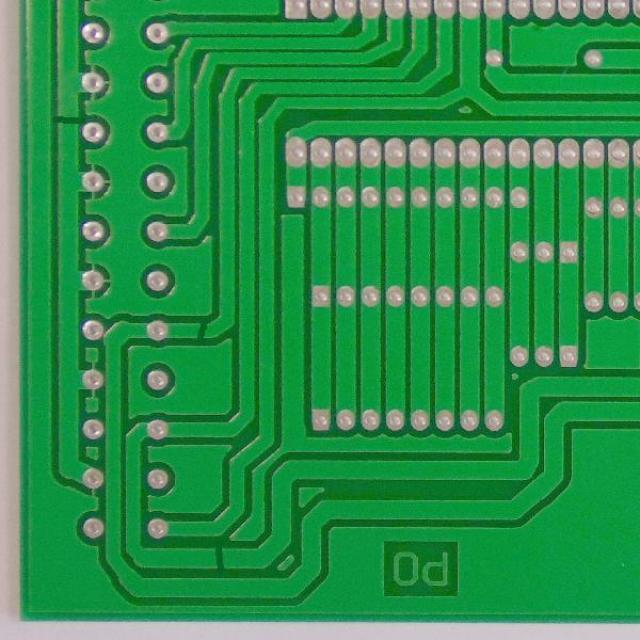Open_Circuit: (44, 108, 87, 135), (190, 310, 212, 350)
